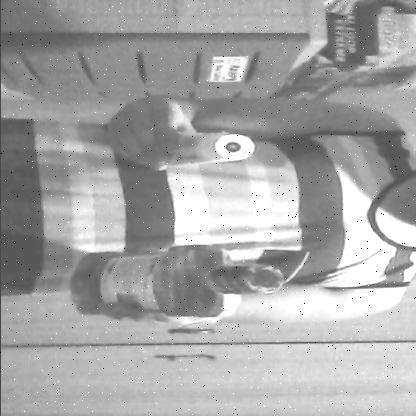Plastic Bottle: (60, 237, 293, 325)
